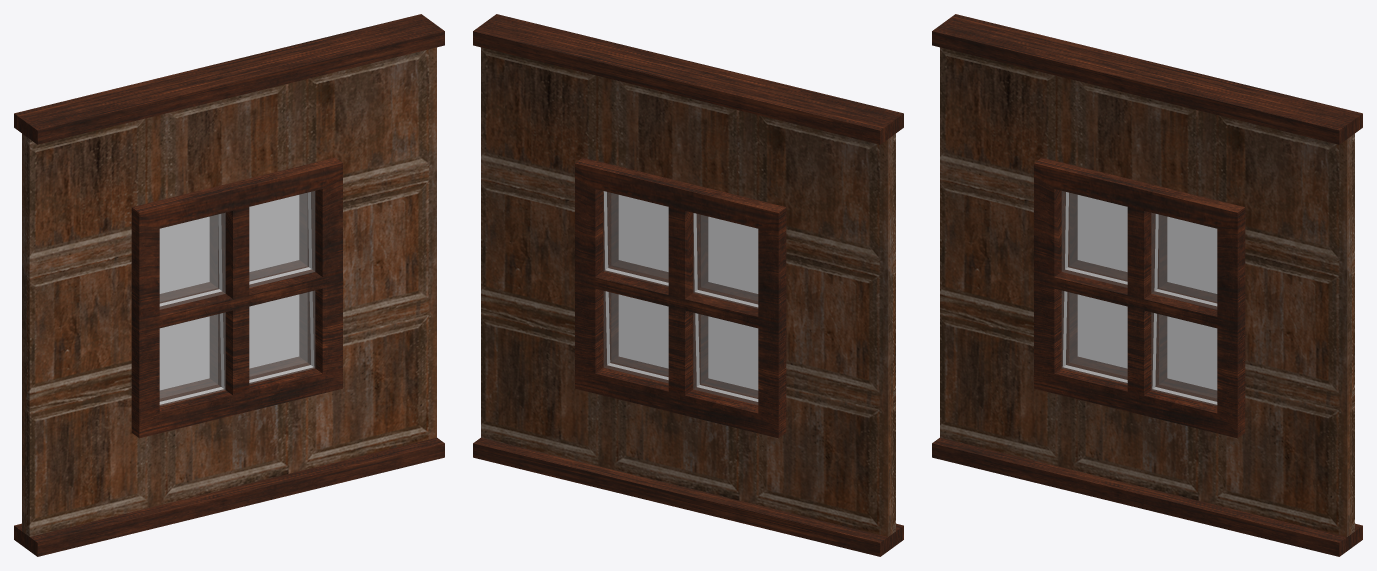
File: WINDOW_FINAL.fbx
The picture shows the model from 3 angles, left to right: view 1: azimuth 30°, elevation 25°; view 2: azimuth 150°, elevation 25°; view 3: azimuth 330°, elevation 25°; orthographic projection.
Visible parts, largest first — view 1: polySurface99; view 2: polySurface99; view 3: polySurface99.
Boxes of the visible parts, x1,y1,x2,y2 form: polySurface99: (14, 14, 444, 556); polySurface99: (473, 14, 903, 556); polySurface99: (932, 14, 1362, 556).
Bounding box in the file's own units: 300 × 300 × 30.
